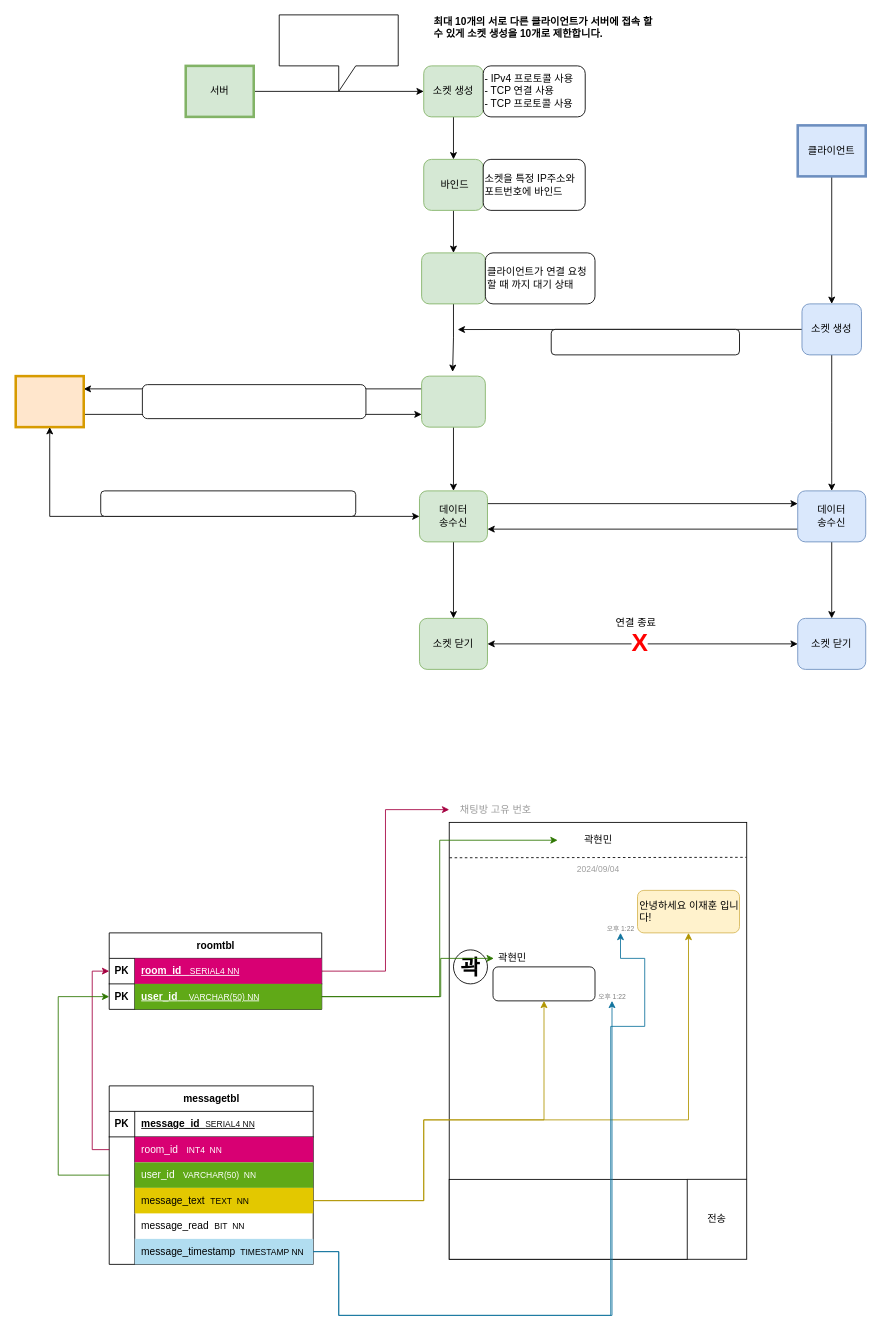
The diagram is 881 pixels wide and 1337 high, and some of its shapes have lost their labels. Here are the shapes that lost their labels. From the top down, the centre of each, then its label:
At [338,52]: "소켓 통신 서버로 이용할 컴퓨터의 IP주소 및 포트 번호설정 및 고정".
At [453,278]: "리스닝".
At [645,342]: "로그인 동작 및 회원가입 시 서버로 연결".
At [49,401]: "데이터베이스".
At [254,401]: "클라이언트가 로그인 시도하는 ID와 Password를 데이터베이스에서 비교 후 로그인 여부 확인".
At [453,401]: "연결 허용".
At [228,503]: "클라이언트로부터 받은 데이터들을 저장 및 불러오기".
At [543,983]: "네! 안녕하세요~".
